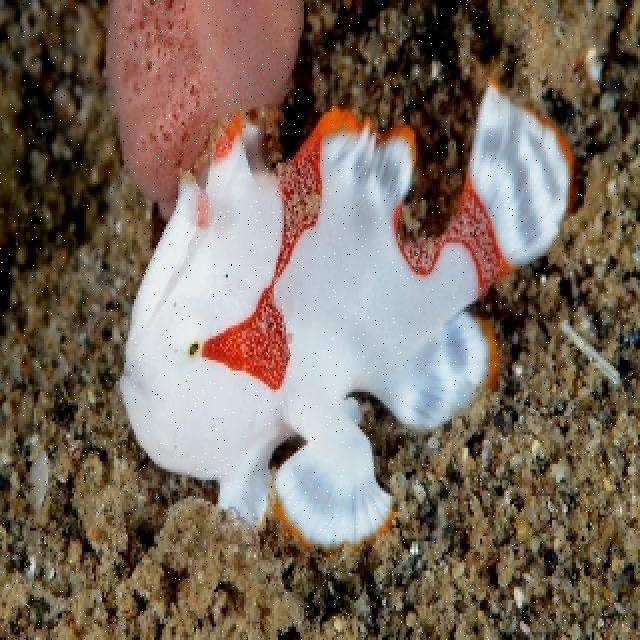fish: (119, 82, 576, 550)
reefs: (106, 3, 306, 221)
